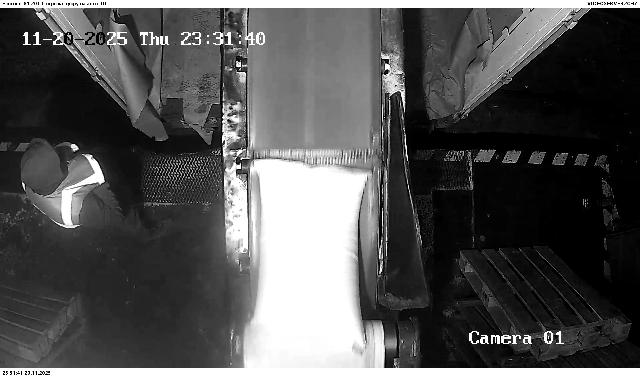bag: (252, 156, 371, 362)
